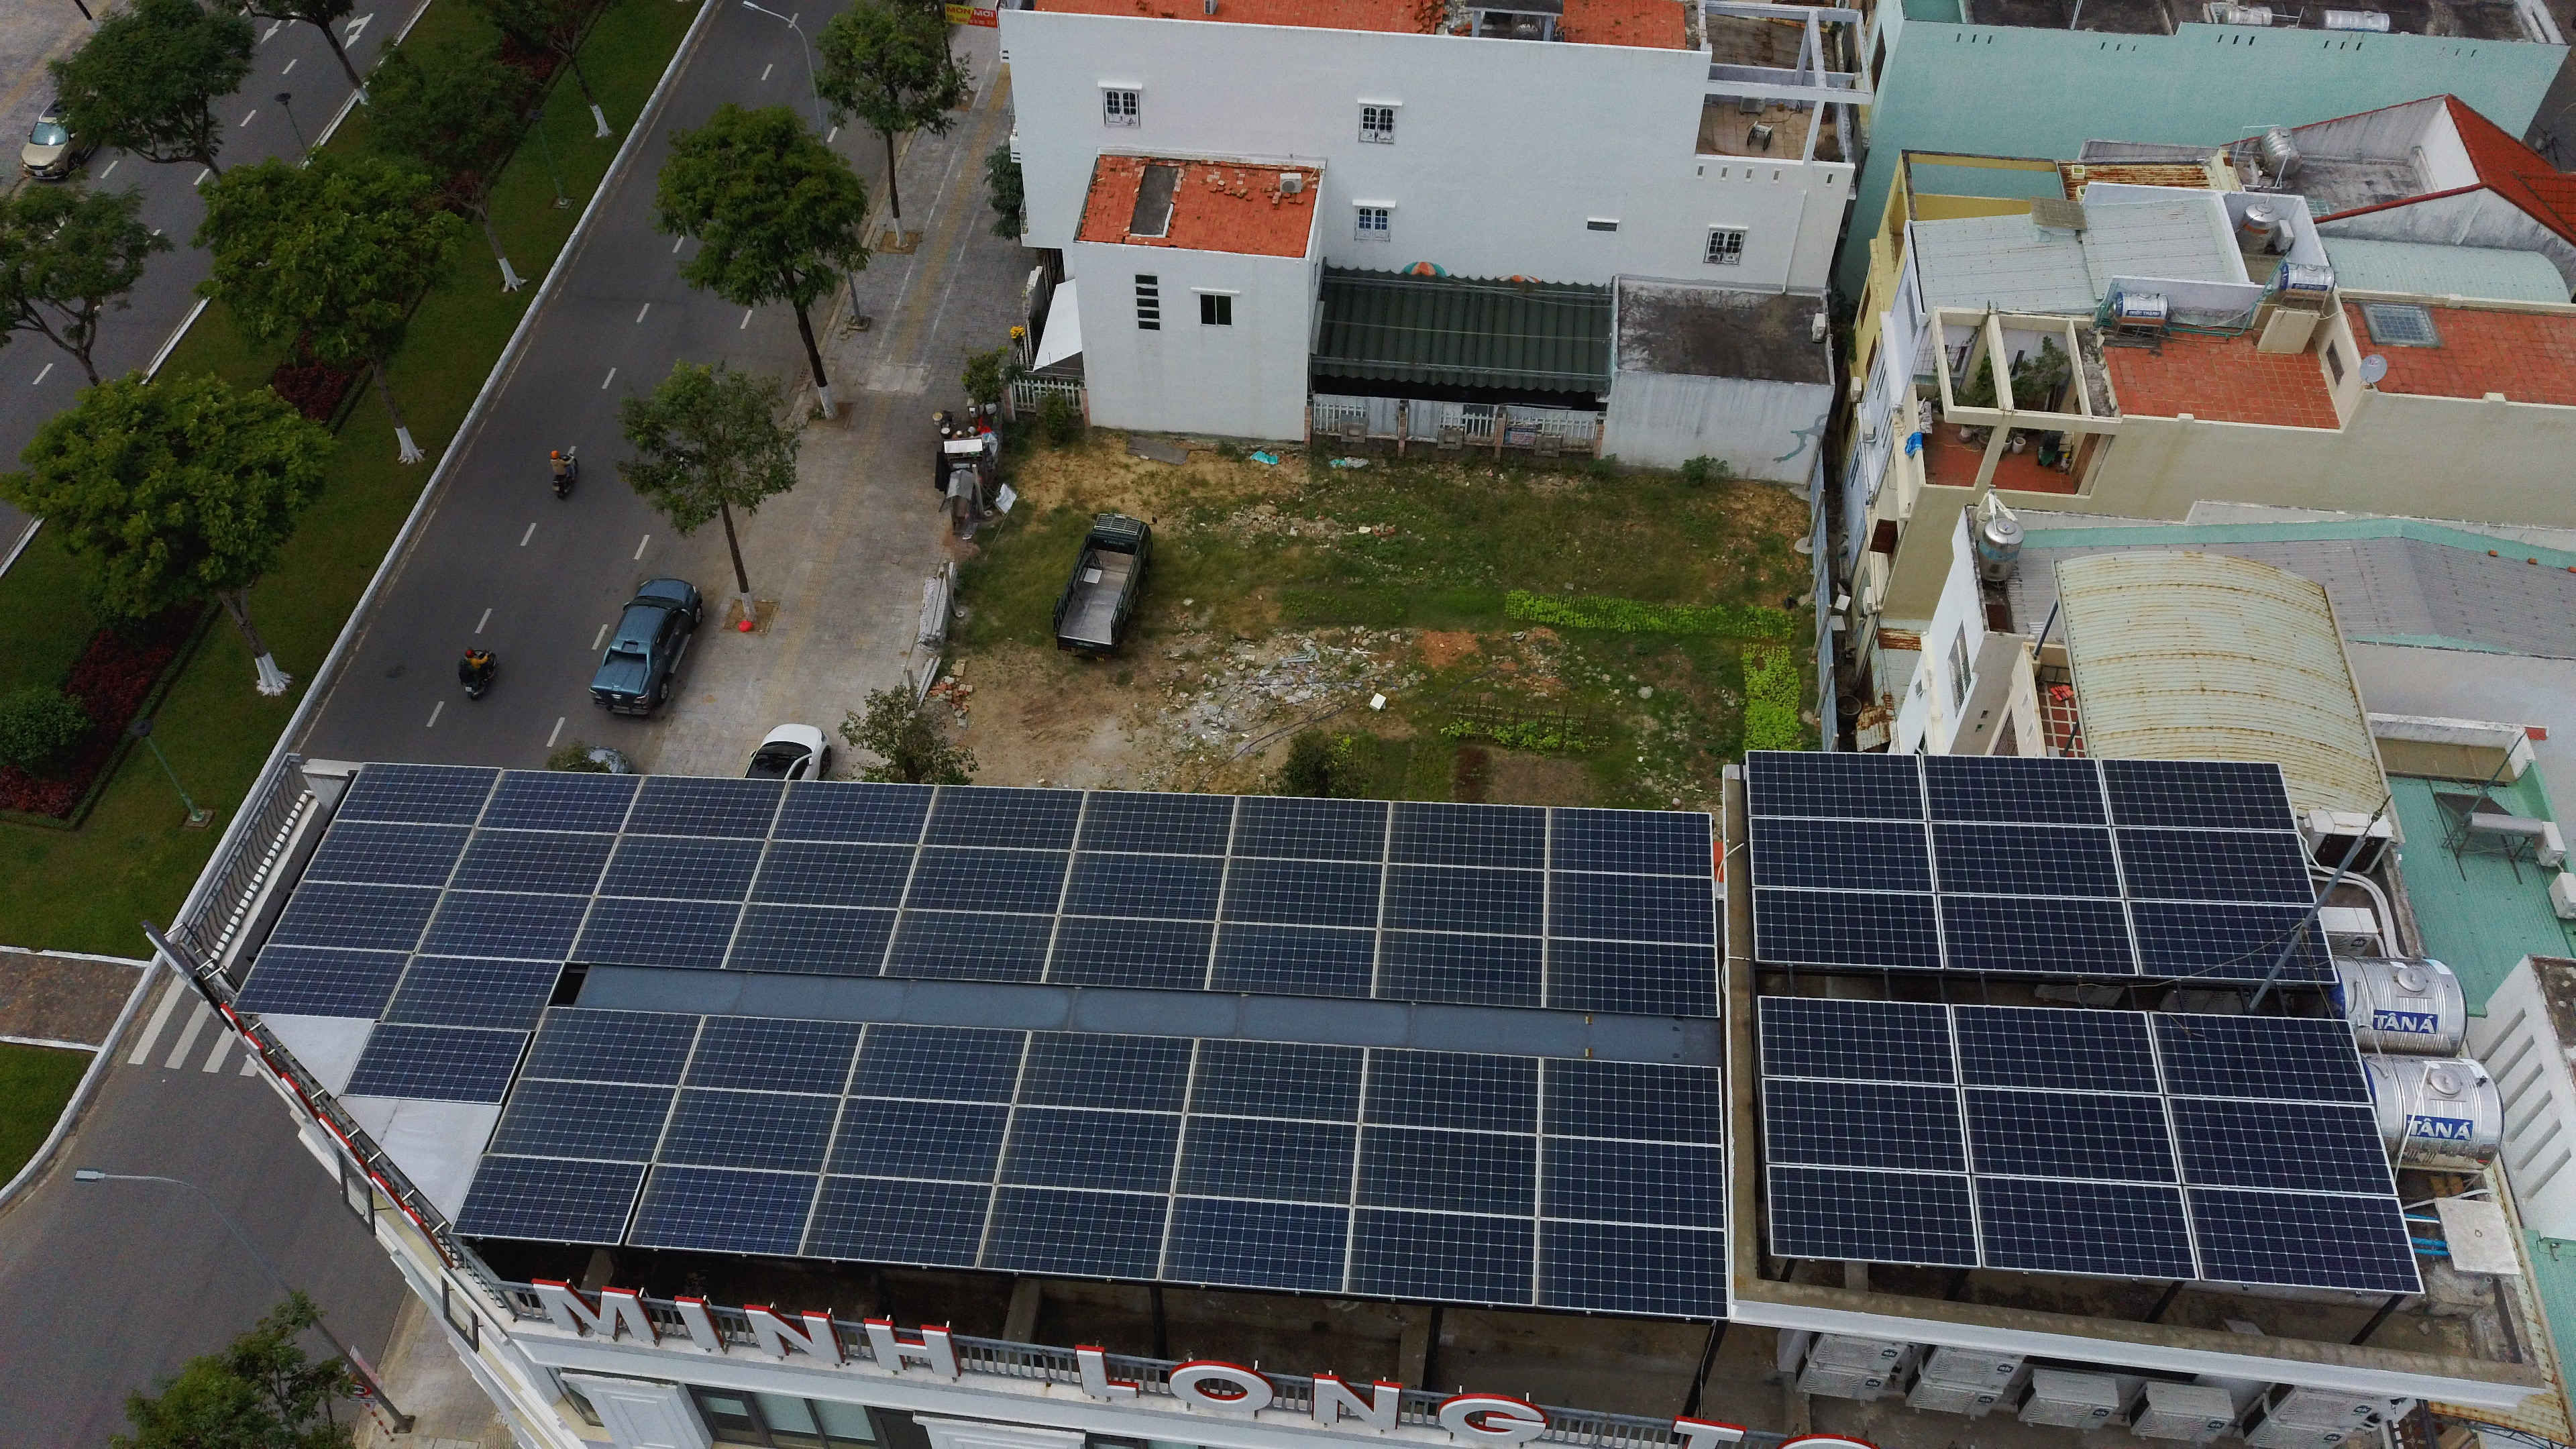solar: (2179, 1181, 2425, 1297), (1965, 1170, 2206, 1281), (2159, 1091, 2402, 1200), (1952, 1079, 2189, 1189), (1763, 1160, 1988, 1270), (2143, 1006, 2377, 1108), (1759, 1072, 1975, 1177), (1531, 1210, 1734, 1321), (1945, 999, 2170, 1099), (1342, 1199, 1541, 1307), (1754, 990, 1966, 1089), (973, 1180, 1174, 1284), (1155, 1191, 1355, 1294), (1532, 1130, 1731, 1233), (796, 1169, 999, 1270), (2118, 894, 2341, 984), (447, 1152, 651, 1248), (1170, 1107, 1362, 1209), (1349, 1119, 1542, 1220), (625, 1161, 825, 1257), (1930, 888, 2145, 976), (653, 1082, 849, 1179), (993, 1104, 1187, 1200), (483, 1073, 682, 1167), (820, 1094, 1017, 1188), (1534, 1052, 1727, 1146), (1749, 883, 1951, 973), (1357, 1042, 1544, 1138), (2105, 822, 2324, 905), (1921, 816, 2130, 902), (1183, 1034, 1371, 1127), (1008, 1028, 1200, 1116), (1747, 812, 1941, 898), (2092, 755, 2303, 835), (516, 1004, 708, 1091), (678, 1013, 868, 1100), (339, 1020, 532, 1106), (844, 1021, 1034, 1107), (1540, 933, 1721, 1021), (376, 951, 568, 1034), (1368, 924, 1550, 1010), (1917, 752, 2116, 830), (1203, 916, 1383, 1002), (263, 875, 450, 957), (1543, 862, 1721, 947), (411, 884, 600, 964), (229, 942, 416, 1022), (1039, 910, 1222, 992), (878, 904, 1059, 986), (1743, 747, 1932, 825), (721, 900, 906, 978), (566, 893, 747, 972), (1214, 851, 1391, 932), (1377, 858, 1550, 940), (1385, 793, 1554, 875), (1057, 847, 1232, 926), (1544, 802, 1717, 881), (443, 823, 623, 899), (896, 842, 1075, 918), (299, 818, 480, 893), (743, 837, 922, 912), (592, 832, 771, 905), (766, 775, 941, 850), (472, 766, 647, 839), (1225, 791, 1396, 865), (1070, 786, 1240, 859), (617, 771, 791, 843), (918, 782, 1089, 854), (331, 762, 504, 829)
